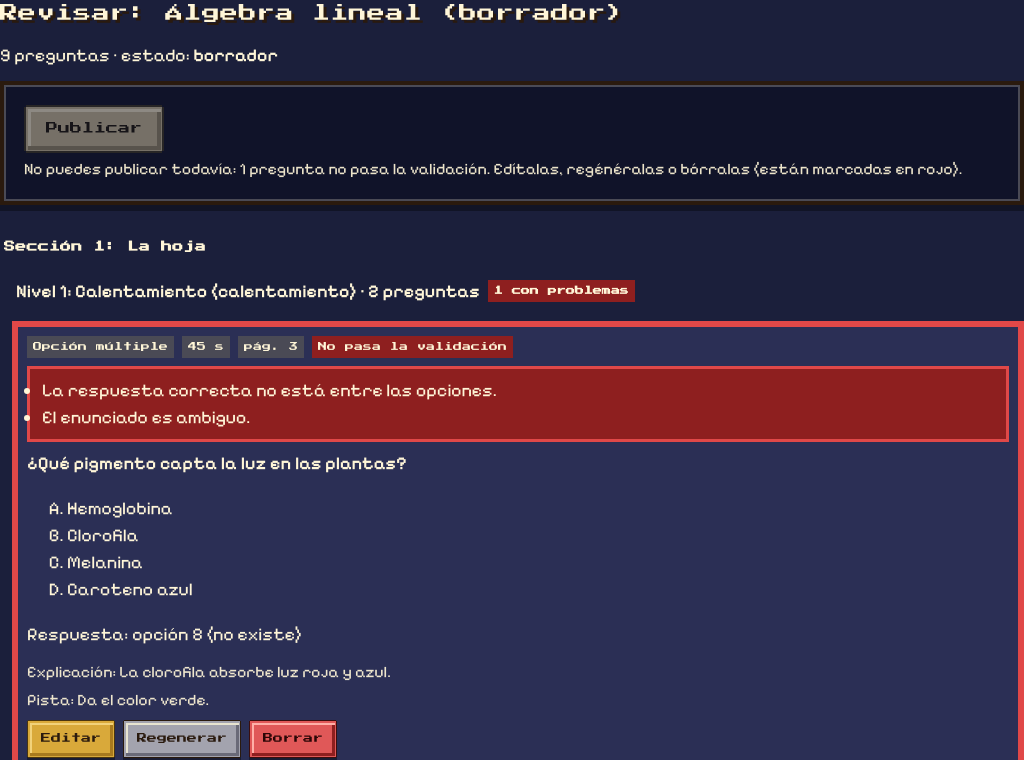
Test case: Revision › deshabilita Publicar con preguntas inválidas y explica por qué; al corregir se habilita
The image size is (1024, 760).
Expected: the button "Publicar" is disabled, [24,105,164,153]
Expected: the text "No puedes publicar todavía: 1 pregunta no pasa" is shown, [24,159,962,178]
Click the button "Editar" at (71, 739), box [27,720,115,758]
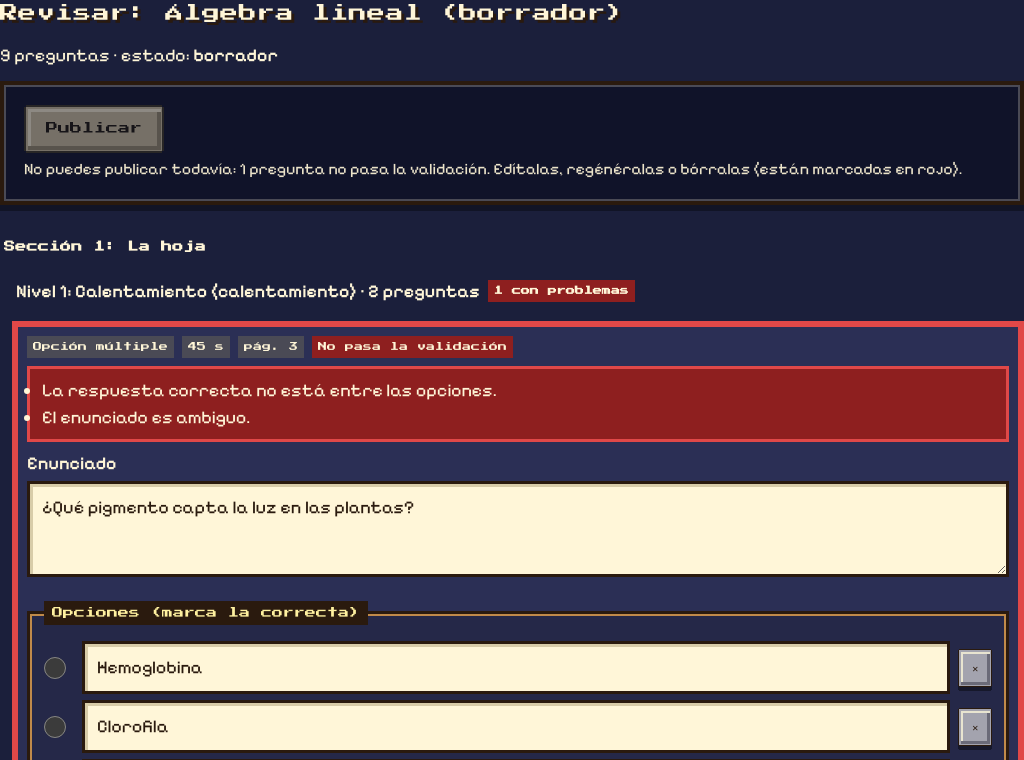
Click the radio button named "Opción 2 es la correcta" at (55, 727), box [44,716,66,738]
(page scrolled)
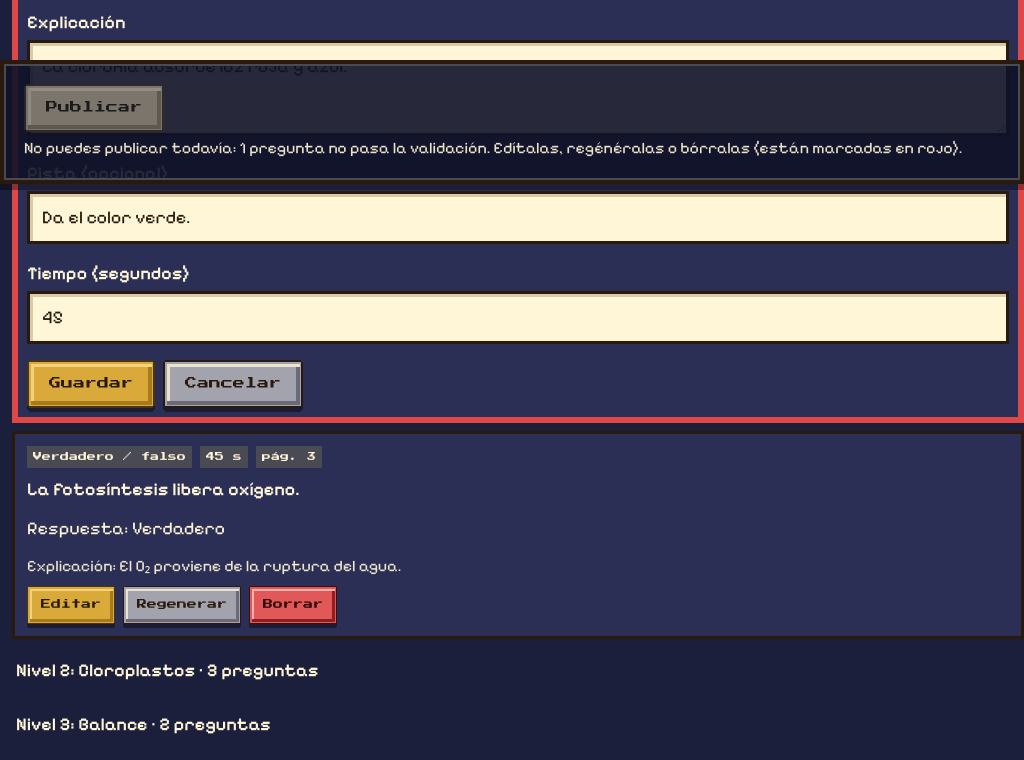
Click the button "Guardar" at (91, 384), box [27,360,155,408]
(page scrolled)
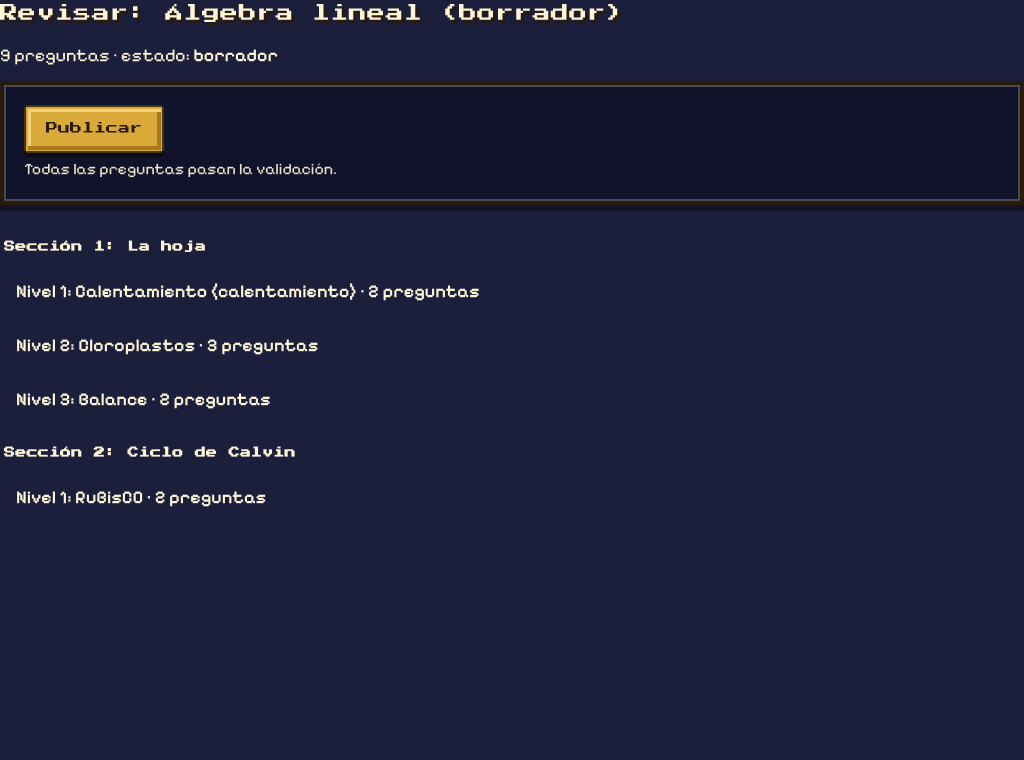
Result: the button "Publicar" is enabled
Click the button "Publicar" at (94, 129), box [24,105,164,153]
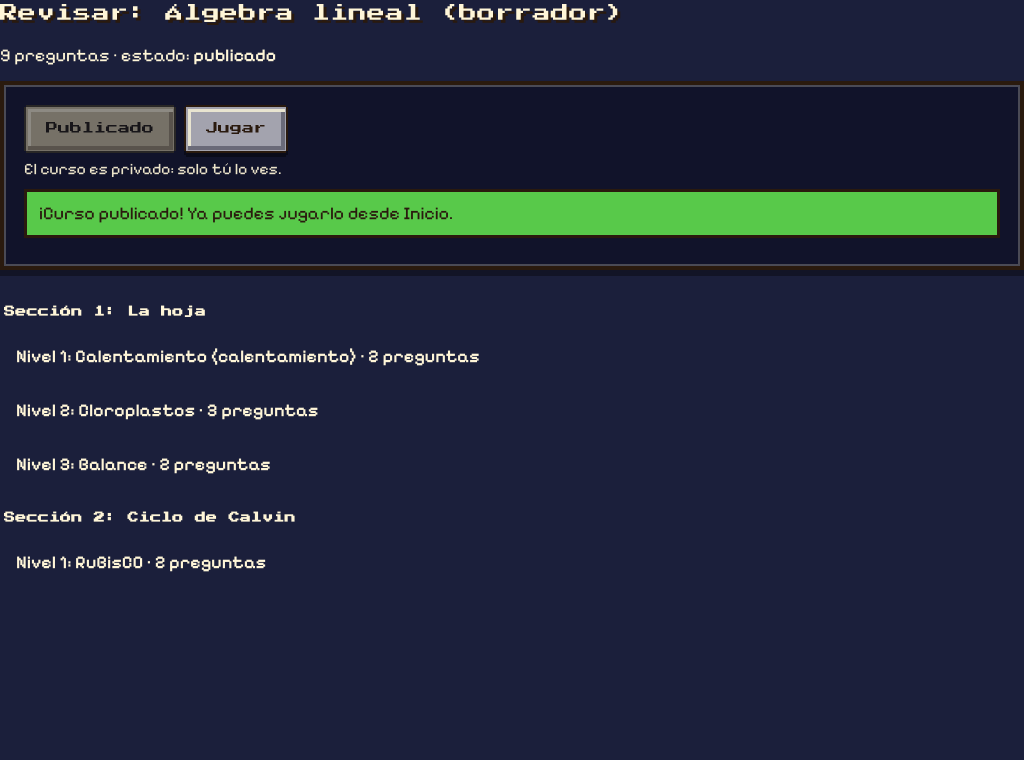
Result: the text "¡Curso publicado! Ya puedes jugarlo desde Inicio." is shown at [24,189,1000,238]
